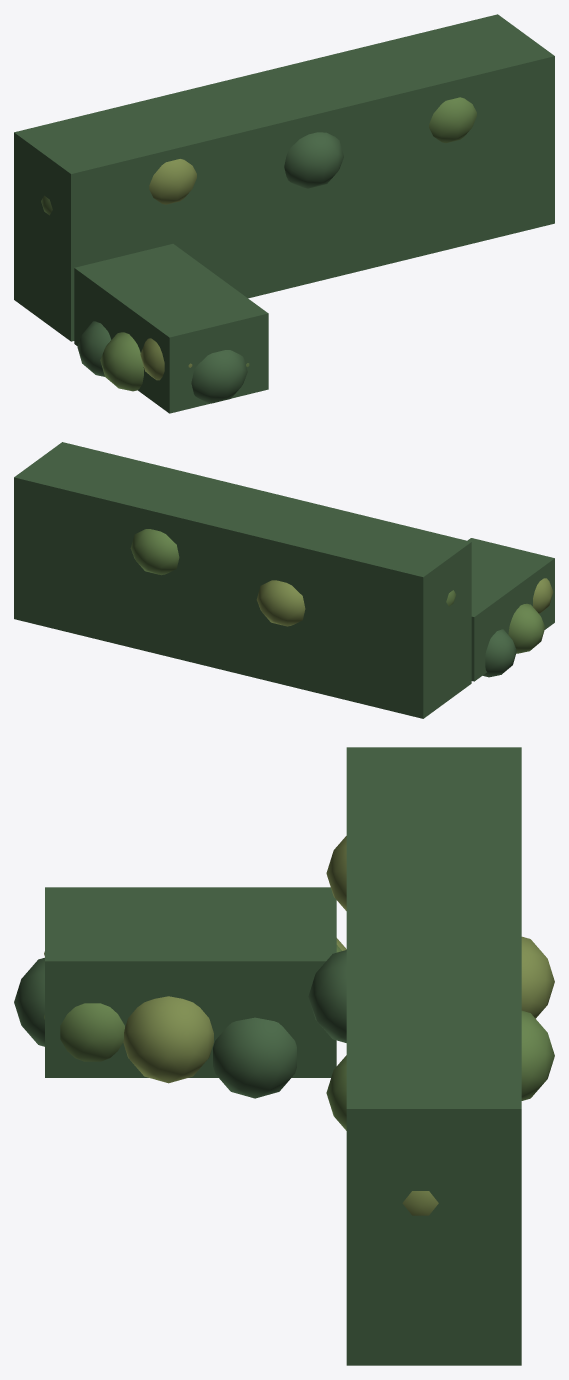
3 views of the same model, one above another, from view 1: azimuth 30°, elevation 25°; view 2: azimuth 150°, elevation 25°; view 3: azimuth 270°, elevation 25° (orthographic). The views are drawn at different scales.
Visible parts, largest first — view 1: climb-hedge-6-0, climb-hedge-6-1, 생울타리 07; view 2: climb-hedge-6-0, climb-hedge-6-1, 생울타리 07; view 3: climb-hedge-6-0, climb-hedge-6-1, 생울타리 07.
Part boxes in pixels (x1=…): climb-hedge-6-0: x1=14, y1=14, x2=554, y2=341; climb-hedge-6-1: x1=74, y1=244, x2=268, y2=413; 생울타리 07: x1=41, y1=97, x2=476, y2=403; climb-hedge-6-0: x1=14, y1=442, x2=471, y2=718; climb-hedge-6-1: x1=467, y1=538, x2=554, y2=681; 생울타리 07: x1=130, y1=529, x2=553, y2=677; climb-hedge-6-0: x1=346, y1=747, x2=521, y2=1365; climb-hedge-6-1: x1=45, y1=887, x2=336, y2=1077; 생울타리 07: x1=14, y1=836, x2=554, y2=1215.
Bounding box in the file's own units: 4.66 × 1.59 × 2.78.
